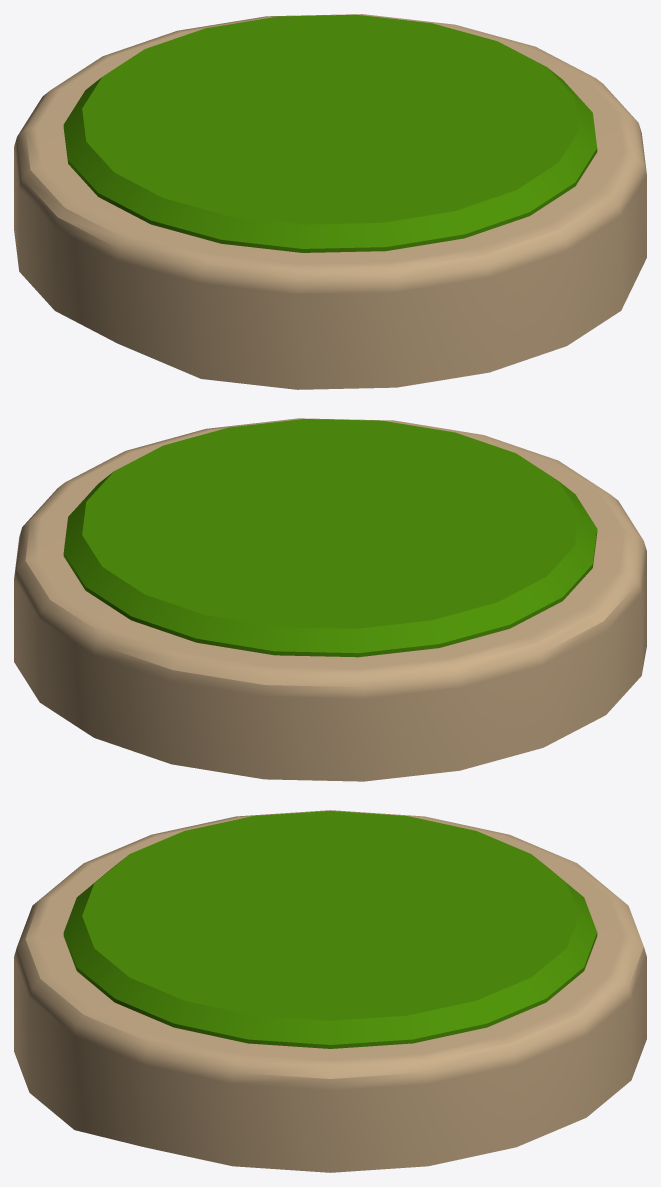
Rendered from Island_Empty.glb.
The picture shows the model from 3 angles, top to bottom: view 1: azimuth 30°, elevation 25°; view 2: azimuth 150°, elevation 25°; view 3: azimuth 270°, elevation 25°; orthographic projection.
Visible parts, largest first — view 1: island_empty; view 2: island_empty; view 3: island_empty.
Part boxes in pixels (box(x1,y1,x2,y2)): island_empty: box(14, 14, 646, 389); island_empty: box(14, 418, 646, 781); island_empty: box(14, 810, 646, 1172).
Size of the model in its own units: 0.1319 by 0.0312 by 0.1319.
